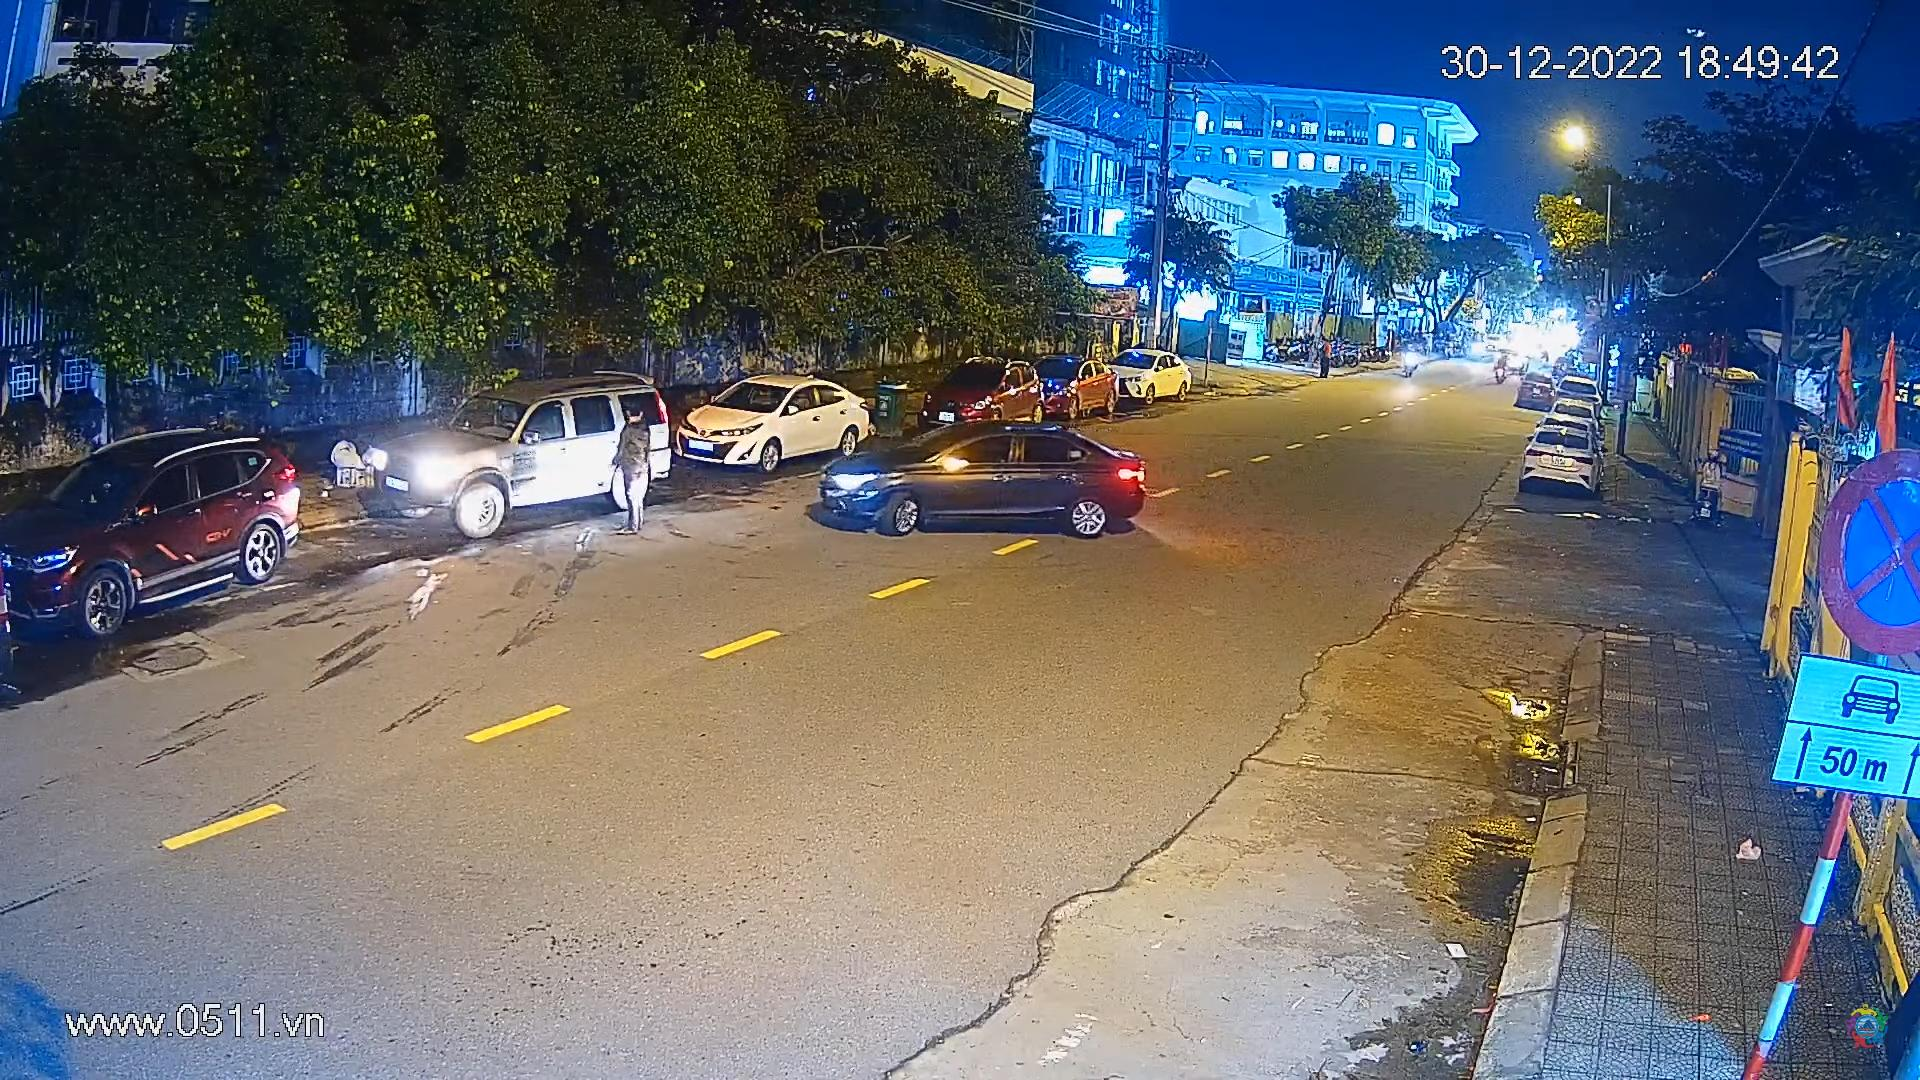car: (0, 422, 309, 640), (401, 371, 686, 538), (808, 413, 1150, 542), (694, 375, 876, 468), (906, 355, 1046, 440), (1035, 349, 1126, 427), (1520, 418, 1600, 505), (1105, 349, 1199, 410), (1547, 373, 1606, 413), (1519, 368, 1556, 415)
